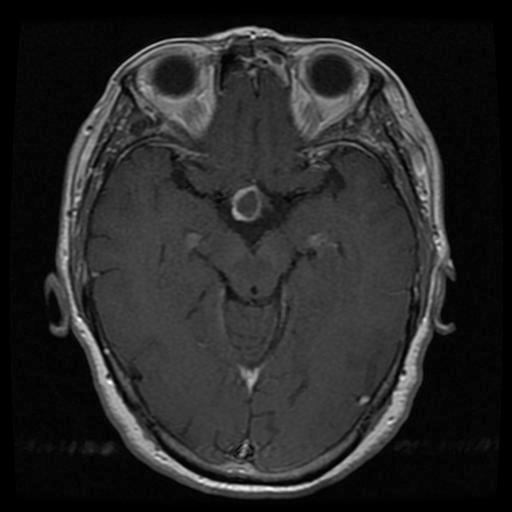Tumour-Pituitary: (230, 183, 264, 224)
